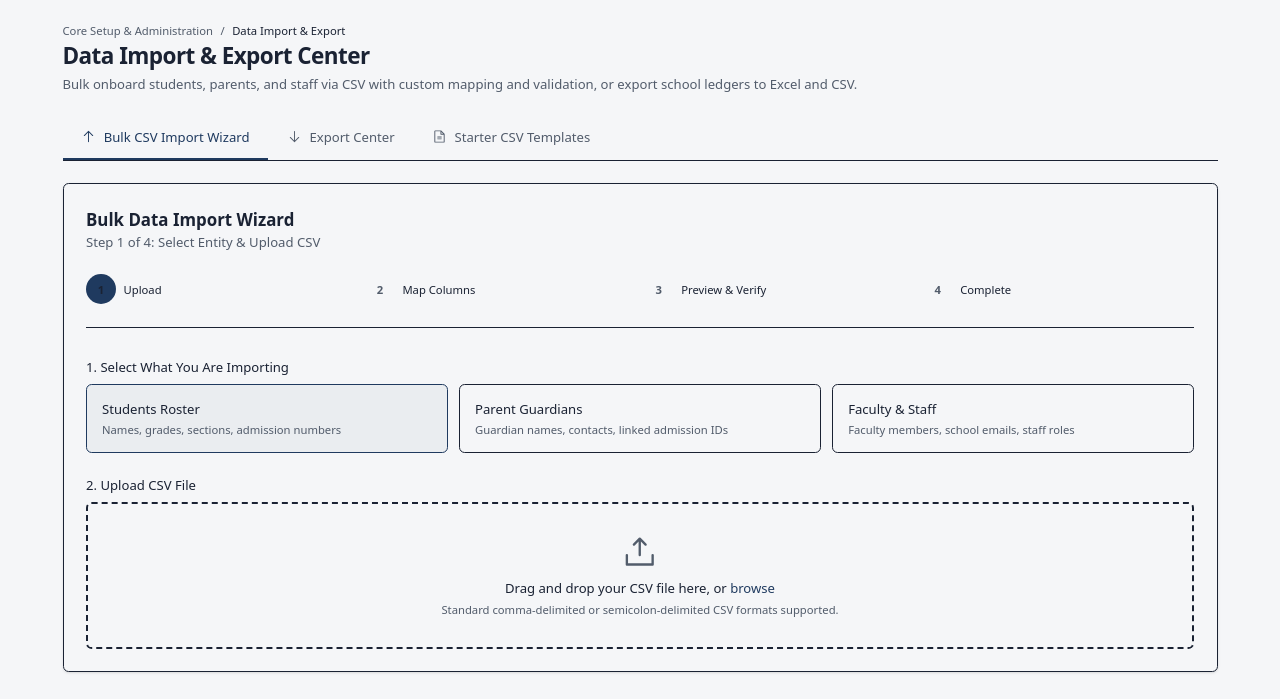
Test case: DataImportExportPage › switches to Export Center tab and displays export datasets
Click the button "Export Center" at (341, 138), box [268,116,413,160]
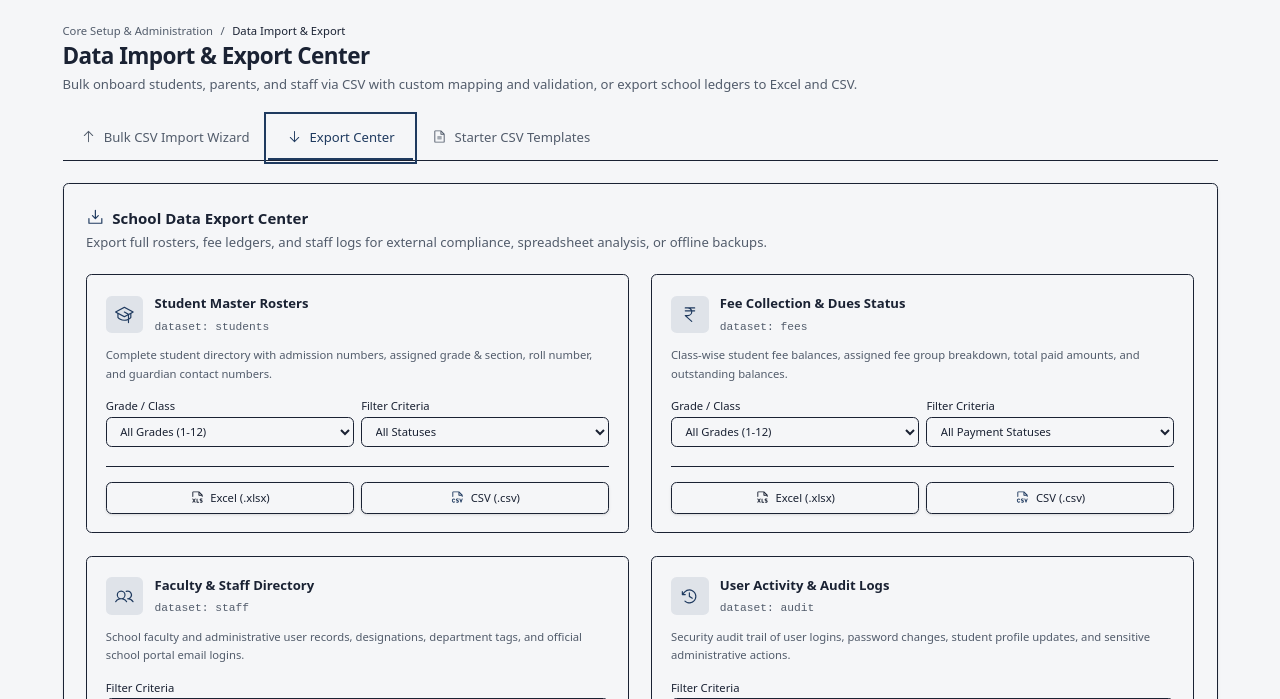
Now the heading "School Data Export Center" is shown, box [86,208,308,228]
Now the heading "Student Master Rosters" is shown, box [154,294,309,313]
Now the heading "Fee Collection & Dues Status" is shown, box [720,294,906,313]
